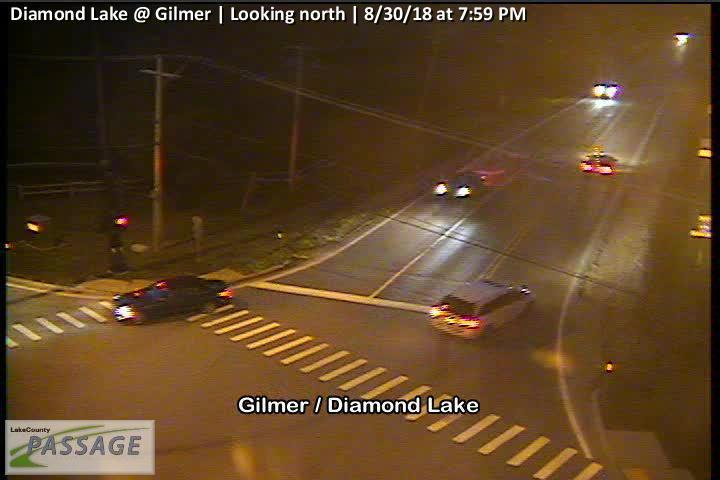Sedan: (427, 280, 535, 345), (112, 274, 236, 326), (432, 170, 489, 201), (579, 153, 616, 177)
